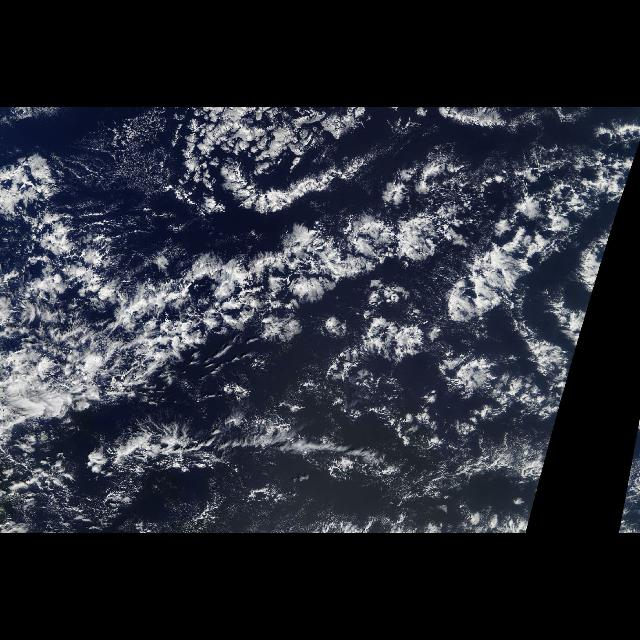Fish: (18, 115, 610, 515)
Sugar: (6, 108, 640, 456), (632, 418, 640, 457)
